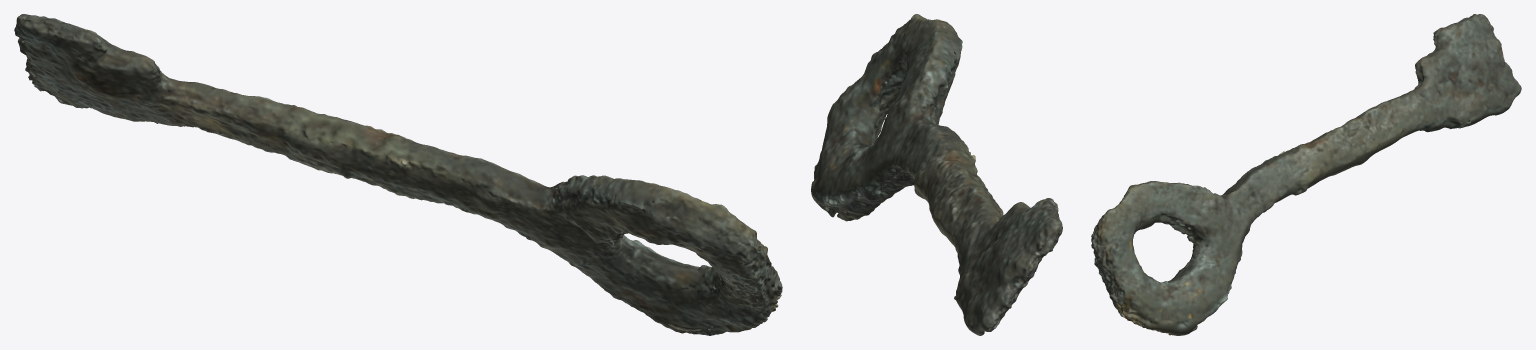
Rendered from key_metal_small_2.obj.
The picture shows the model from 3 angles, left to right: view 1: azimuth 30°, elevation 25°; view 2: azimuth 150°, elevation 25°; view 3: azimuth 270°, elevation 25°; orthographic projection. The views are drawn at different scales.
Size of the model in its own units: 0.2308 by 0.1166 by 0.2594.
